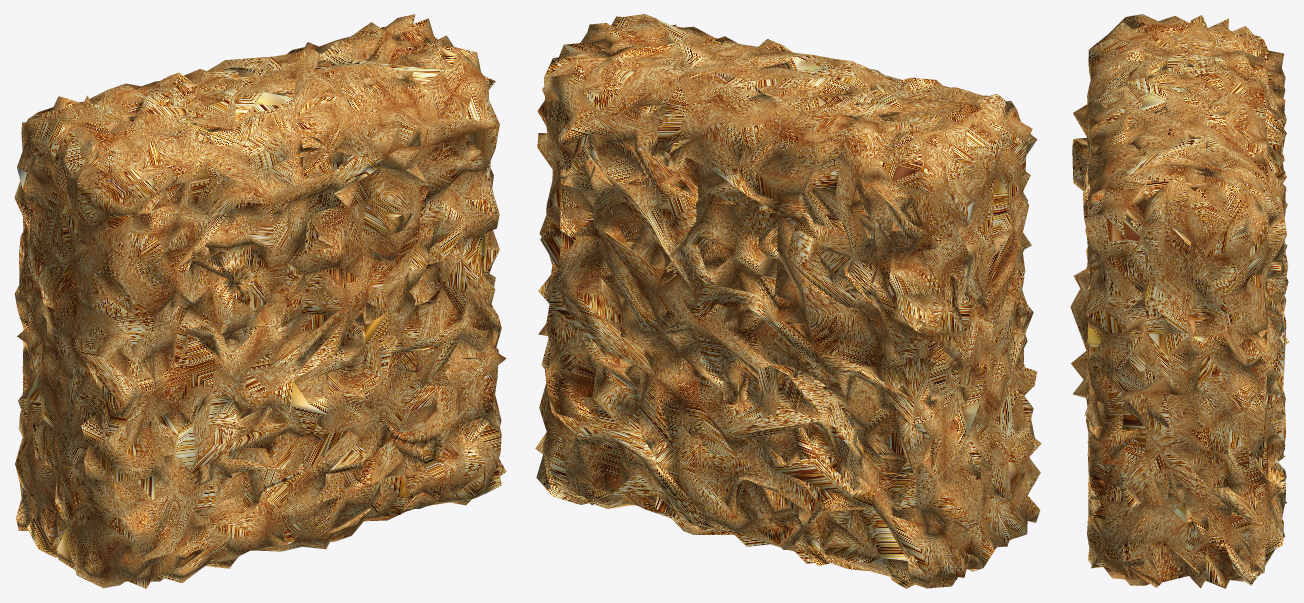
The model's file is noodle-brick.glb.
3 renders of one model, left to right at view 1: azimuth 30°, elevation 25°; view 2: azimuth 150°, elevation 25°; view 3: azimuth 270°, elevation 25°, orthographic. The views are drawn at different scales.
Visible parts, largest first — view 1: mesh; view 2: mesh; view 3: mesh.
Boxes of the visible parts, x1,y1,x2,y2 form: mesh: (14,14,506,588); mesh: (535,14,1041,588); mesh: (1070,14,1289,588).
Bounding box in the file's own units: 1.97 × 1.98 × 0.9627.
1 material, 1 textured.
